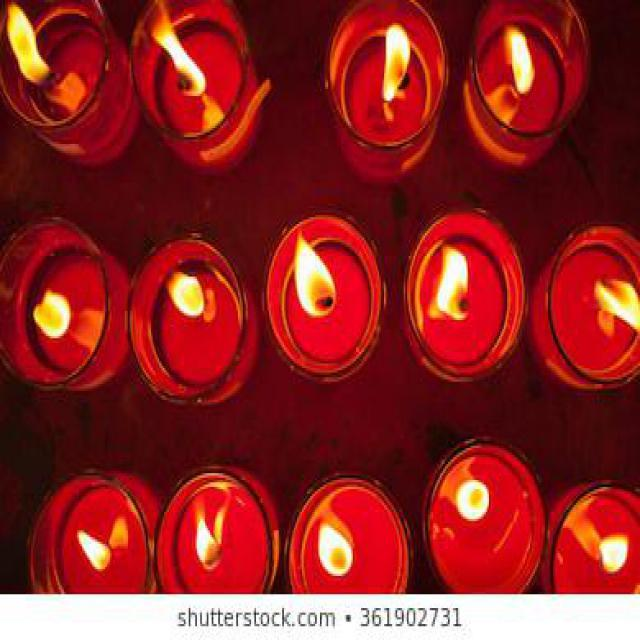Fire: (147, 0, 206, 96), (5, 1, 52, 84), (296, 235, 336, 318), (428, 244, 469, 324), (592, 275, 640, 335), (502, 24, 535, 95), (162, 266, 205, 319), (383, 24, 411, 100), (317, 520, 353, 577), (194, 508, 226, 570), (31, 292, 71, 340), (456, 480, 492, 526), (77, 529, 111, 570), (598, 535, 628, 574)
